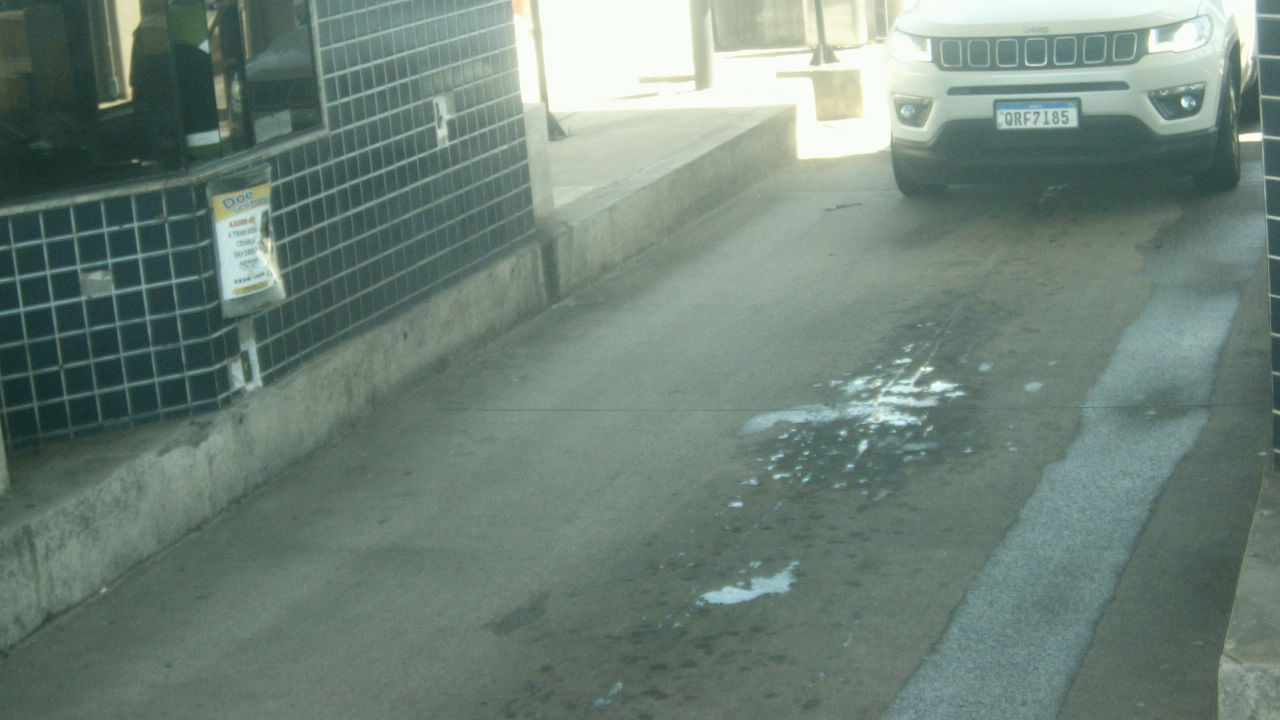placa: (995, 99, 1080, 130)
